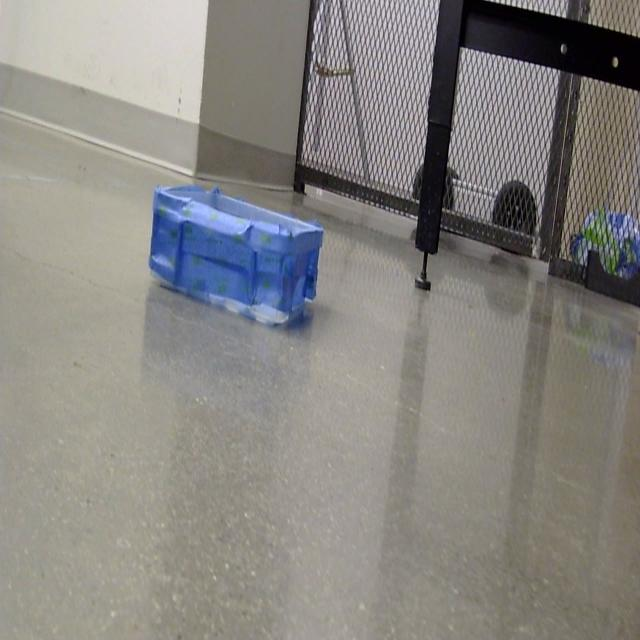bucket: (148, 186, 325, 331)
